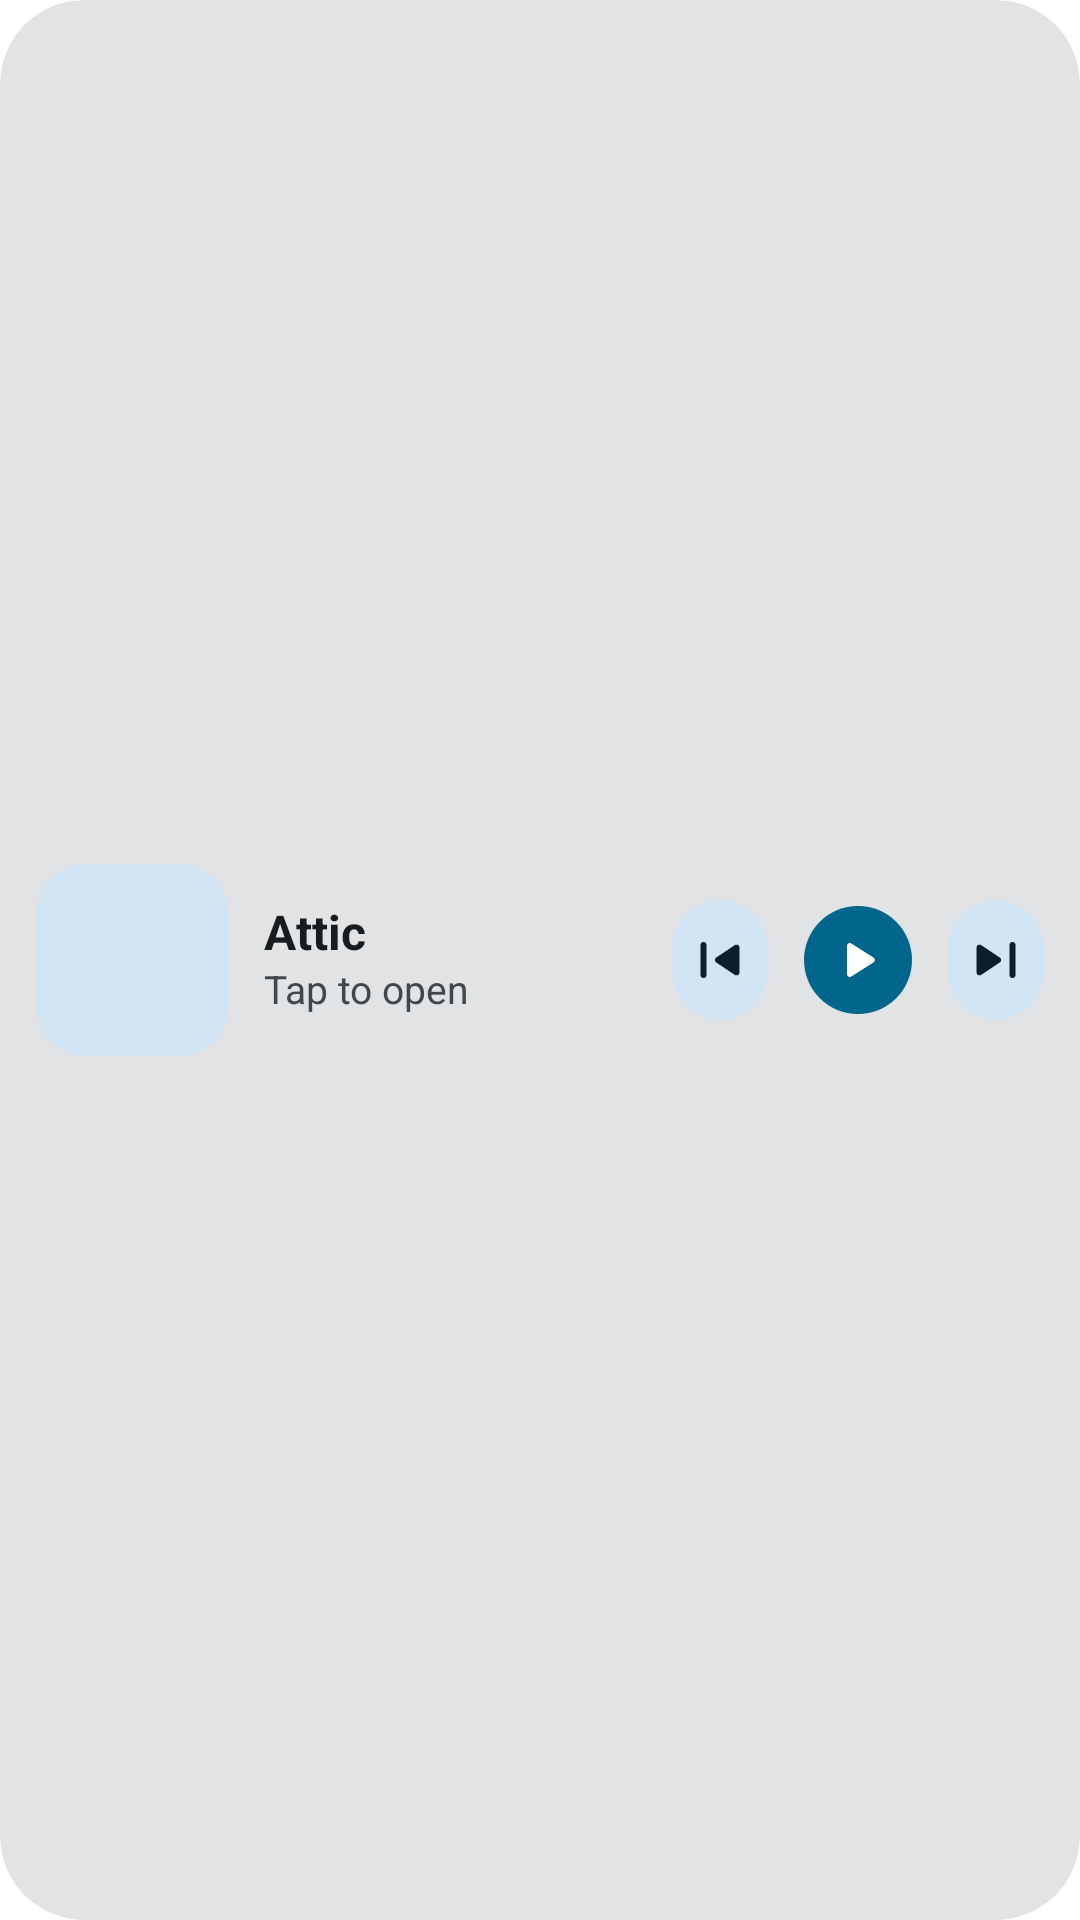

Where to tap for icons on this 1080x1920 app screen, as [x,y]:
Next: [996,960]
Previous: [720,960]
